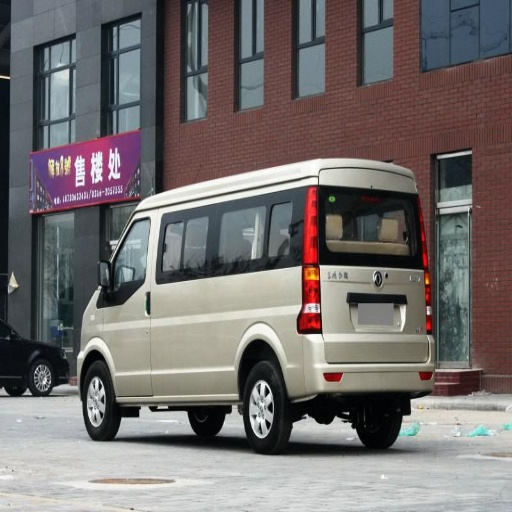back_bumper: (296, 334, 434, 395)
back_left_light: (297, 191, 321, 333)
tailgate: (329, 237, 418, 333)
trunk: (164, 274, 318, 397), (320, 240, 428, 358)
